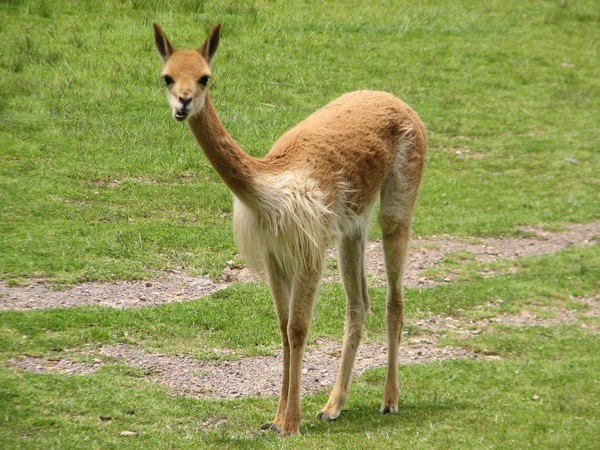alpaca: (150, 18, 428, 435)
